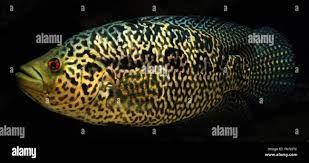Jaguar Gapote: (13, 15, 295, 130)
